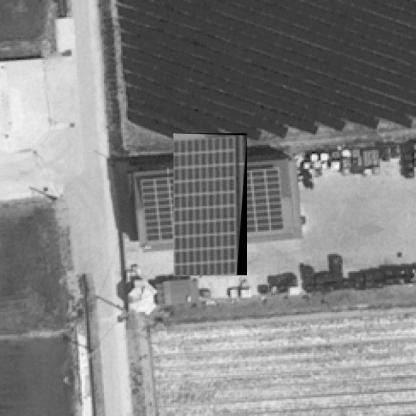solar-pv-panel: (174, 135, 239, 275)
